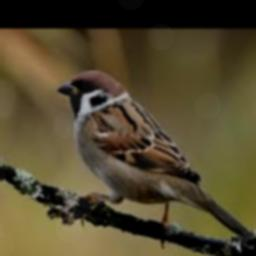Sparrow: (56, 70, 250, 244)
